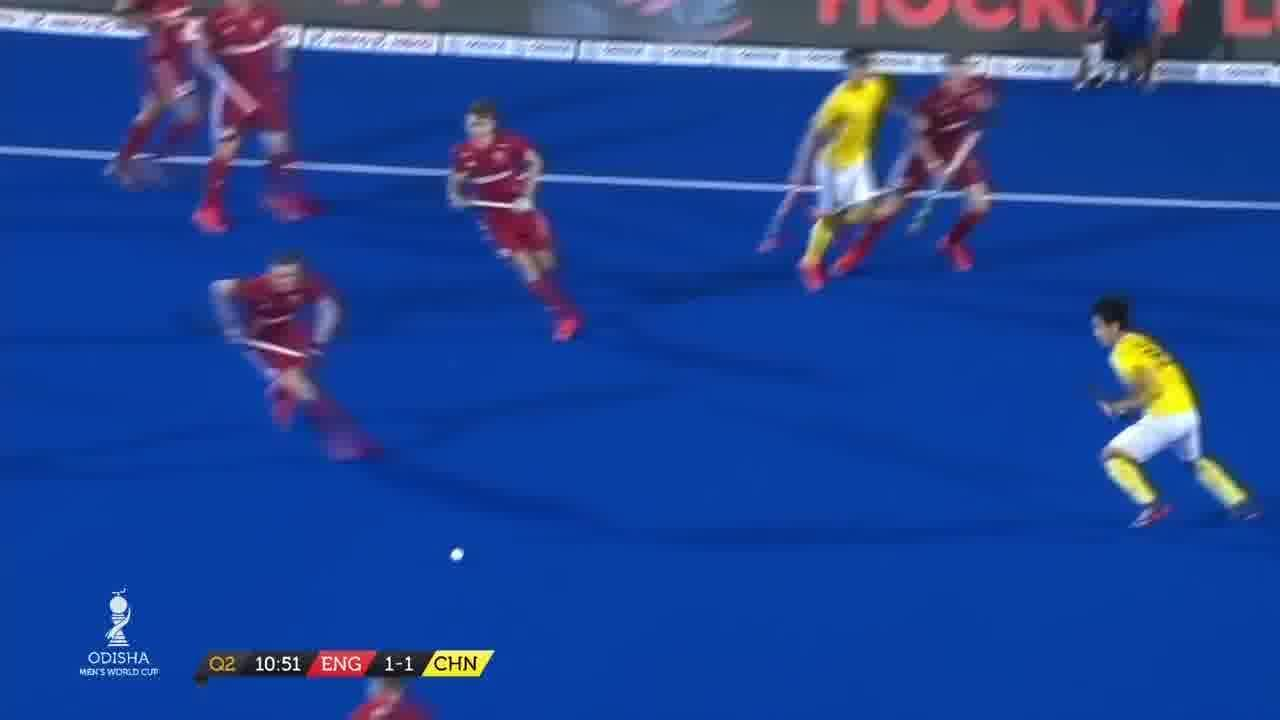ball: (446, 538, 471, 567)
